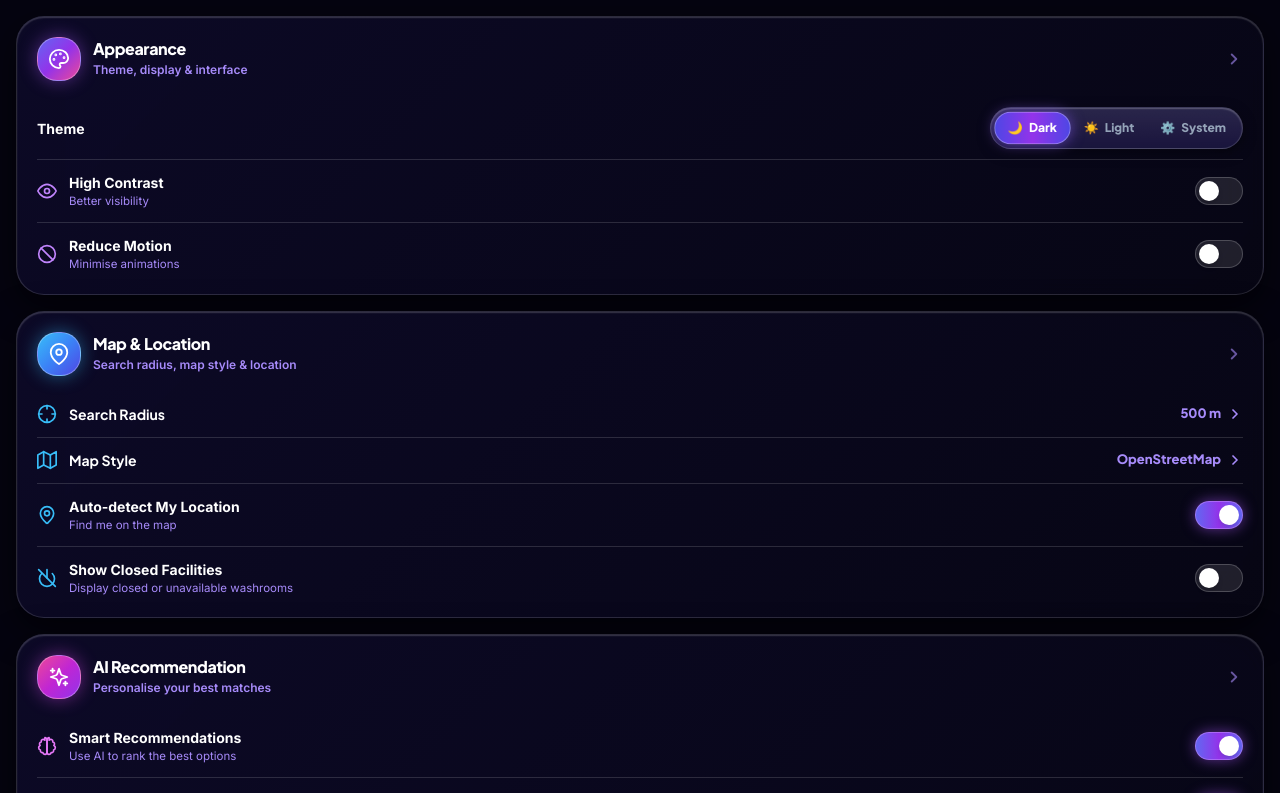
Test: SettingsView › cycles through radius and walking options when clicked
The width and height of the screenshot is (1280, 793).
Click the button "Search Radius 500 m" at point(117, 414), box [37, 392, 1243, 438]
(page scrolled)
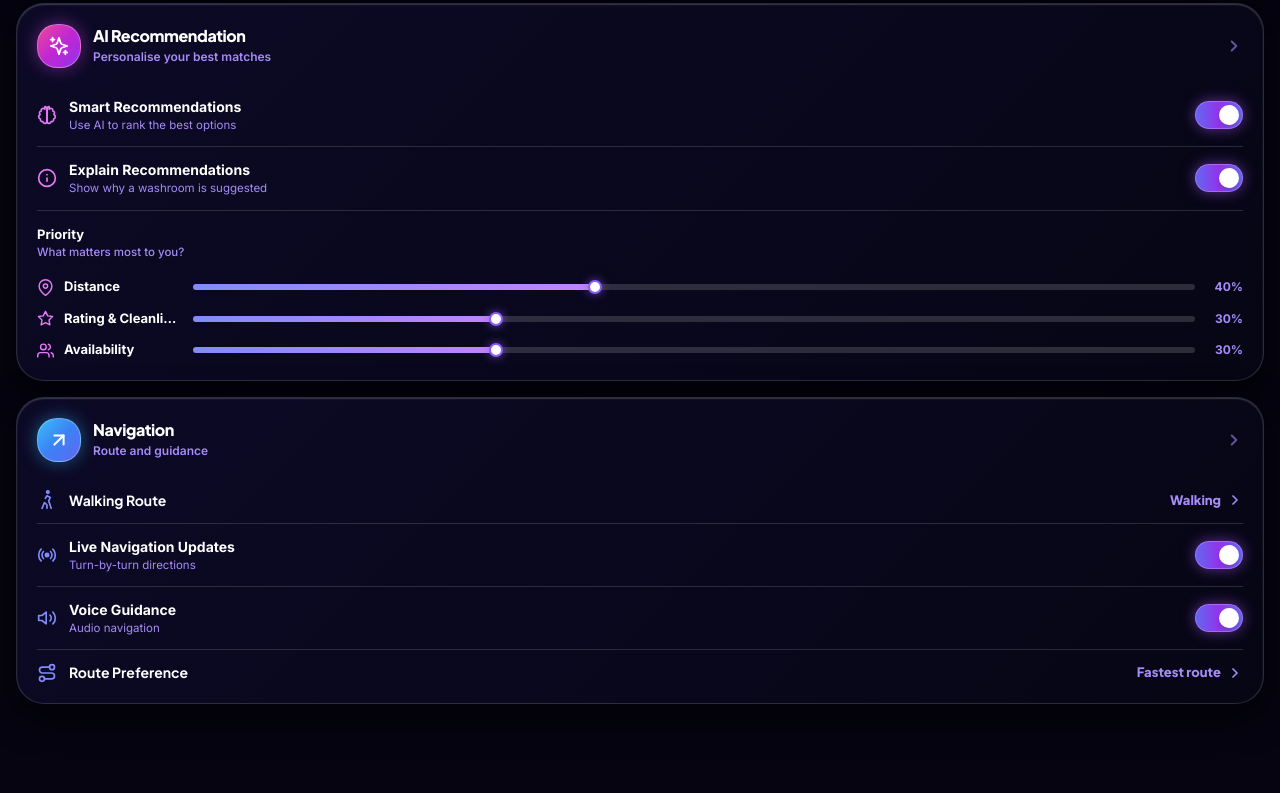
Click the button "Walking Route Walking" at point(118, 500), box [37, 478, 1243, 524]
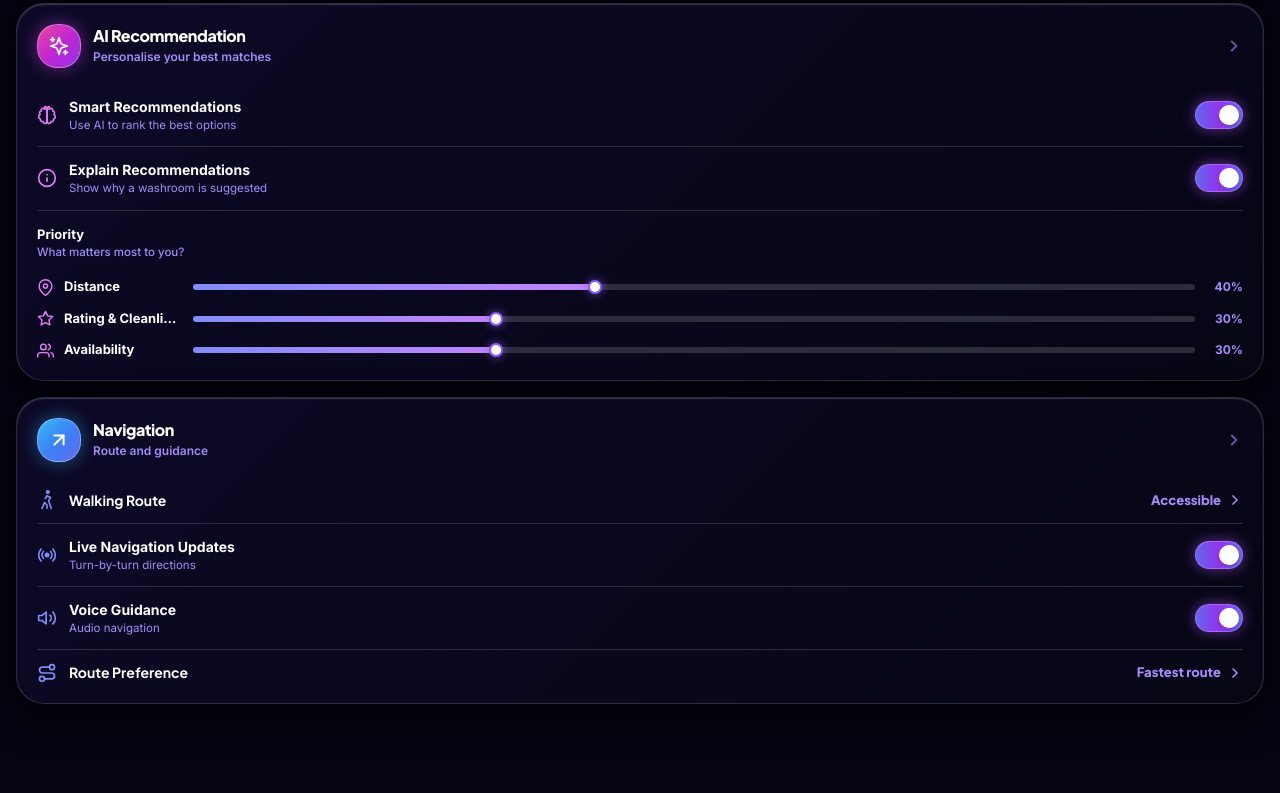
Result: the button "Walking Route Accessible" is shown at [37, 478, 1243, 524]
